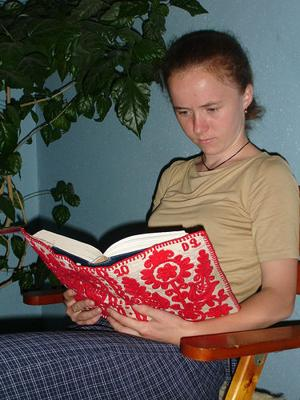person: (2, 30, 300, 400)
